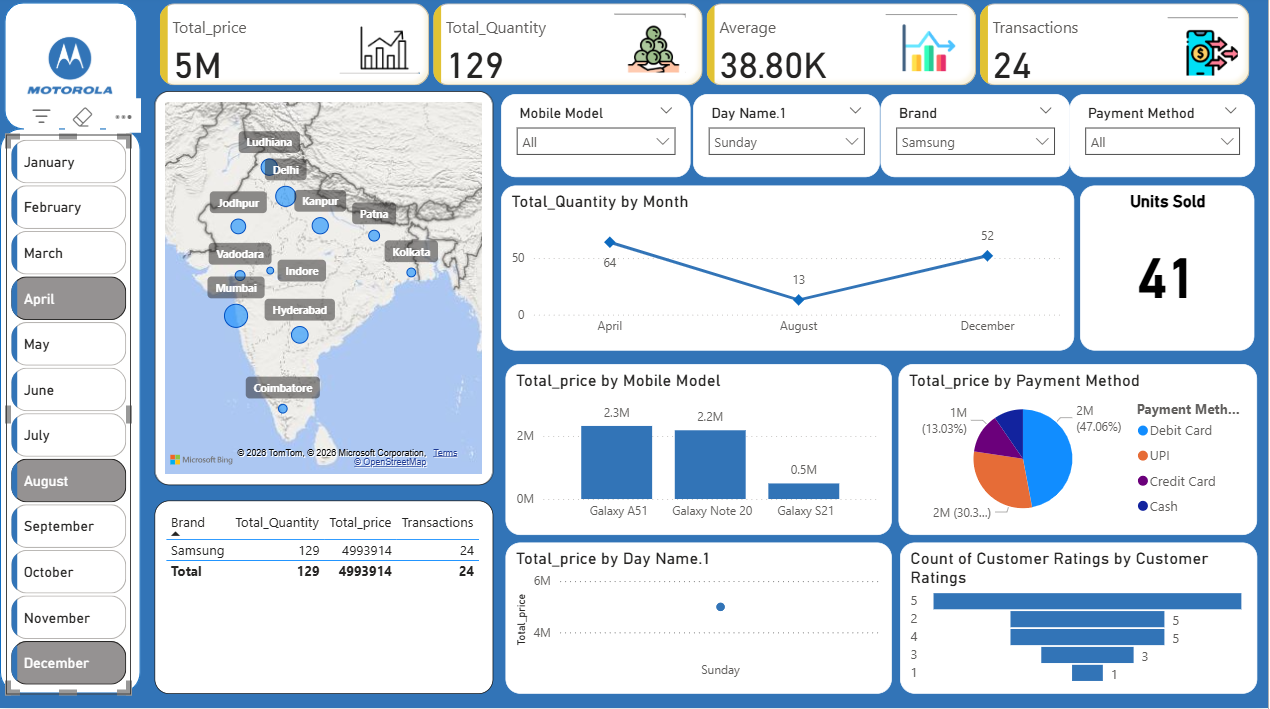

What the dashboard file says about the page in this screenshot:
{"tool":"powerbi","page":{"name":"Page 1","canvas":[1280,720],"ordinal":0},"visuals":[{"type":"shape","box":[4.1,6.9,133.6,128.1],"z":0},{"type":"image","box":[12.4,16.5,117.1,107.5],"z":1000},{"type":"shape","box":[0,135,141.9,570.3],"z":2000},{"type":"advancedSlicerVisual","fields":{"Values":["Sheet1.Date.Variation.Date Hierarchy.Month"]},"box":[5.5,140.5,126.7,564.8],"z":3000},{"type":"cardVisual","fields":{"Data":["Sales_data.Total_price","Sales_data.Total_Quantity","Sales_data.Average","Sales_data.Total_transactions"]},"box":[156,3,1112.9,93.9],"z":4000},{"type":"map","fields":{"Category":["Sales_data.City"],"Size":["Sales_data.Total_price"]},"box":[156,96.9,342.2,398.2],"z":5000},{"type":"clusteredColumnChart","fields":{"Category":["Sales_data.Mobile Model"],"Y":["Sales_data.Total_price"]},"box":[510.3,372.5,390,172.6],"z":6000},{"type":"pieChart","fields":{"Category":["Sales_data.Payment Method"],"Y":["Sales_data.Total_price"]},"box":[907,372.5,361.9,172.6],"z":7000},{"type":"funnel","fields":{"Category":["Sales_data.Customer Ratings"],"Y":["CountNonNull(Sales_data.Customer Ratings)"]},"box":[907.8,552.4,360.9,152.9],"z":8000},{"type":"areaChart","fields":{"Category":["Sales_data.Day Name.1"],"Y":["Sales_data.Total_price"]},"box":[509.7,552.4,389.9,152.9],"z":9000},{"type":"tableEx","fields":{"Values":["Sales_data.Brand","Sales_data.Total_Quantity","Sales_data.Total_price","Sales_data.Transactions"]},"box":[156,510.3,342.2,195.3],"z":10000},{"type":"slicer","fields":{"Values":["Sales_data.Payment Method"]},"box":[1080,100.6,187.4,84],"z":11000},{"type":"slicer","fields":{"Values":["Sales_data.Mobile Model"]},"box":[505.6,100.6,191.5,84],"z":12000},{"type":"slicer","fields":{"Values":["Sales_data.Day Name.1"]},"box":[699.8,100.6,188.7,84],"z":13000},{"type":"slicer","fields":{"Values":["Sales_data.Brand"]},"box":[888.5,100.6,191.5,84],"z":14000},{"type":"kpi","title":"Units Sold","fields":{"Indicator":["Sum(Sales_data.Units Sold)"],"TrendLine":["Sales_data.Date.Variation.Date Hierarchy.Year"]},"box":[1089.7,192.9,176,166.7],"z":15000},{"type":"lineChart","fields":{"Category":["Sales_data.Date.Variation.Date Hierarchy.Month","Sales_data.Date.Variation.Date Hierarchy.Day"],"Y":["Sales_data.Total_Quantity"]},"box":[505.6,192.9,578.6,166.7],"z":16000},{"type":"image","box":[337.7,0,90.9,92.4],"z":17000},{"type":"image","box":[1173.7,16.5,81.3,70.3],"z":18000},{"type":"image","box":[888.5,6.9,82.7,81.3],"z":19000},{"type":"image","box":[614.4,6.9,82.7,82.7],"z":20000}]}

Visuals, with their boxes in screenshot pixels (x1, y1, x2, y2):
shape: [0,0,132,122]
image: [6,3,124,111]
shape: [0,122,136,696]
advancedSlicerVisual - Sheet1.Date.Variation.Date Hierarchy.Month: [0,128,126,696]
cardVisual - Sales_data.Total_price x Sales_data.Total_Quantity: [150,0,1269,84]
map - Sales_data.City x Sales_data.Total_price: [150,84,494,484]
clusteredColumnChart - Sales_data.Mobile Model x Sales_data.Total_price: [506,361,898,535]
pieChart - Sales_data.Payment Method x Sales_data.Total_price: [905,361,1269,535]
funnel - Sales_data.Customer Ratings x CountNonNull(Sales_data.Customer Ratings): [906,542,1268,696]
areaChart - Sales_data.Day Name.1 x Sales_data.Total_price: [506,542,898,696]
tableEx - Sales_data.Brand x Sales_data.Total_Quantity: [150,500,494,696]
slicer - Sales_data.Payment Method: [1079,88,1267,172]
slicer - Sales_data.Mobile Model: [502,88,694,172]
slicer - Sales_data.Day Name.1: [697,88,886,172]
slicer - Sales_data.Brand: [886,88,1079,172]
"Units Sold" kpi: [1089,181,1265,348]
lineChart - Sales_data.Date.Variation.Date Hierarchy.Month x Sales_data.Date.Variation.Date Hierarchy.Day: [502,181,1083,348]
image: [333,0,424,80]
image: [1173,3,1255,74]
image: [886,0,969,75]
image: [611,0,694,77]
